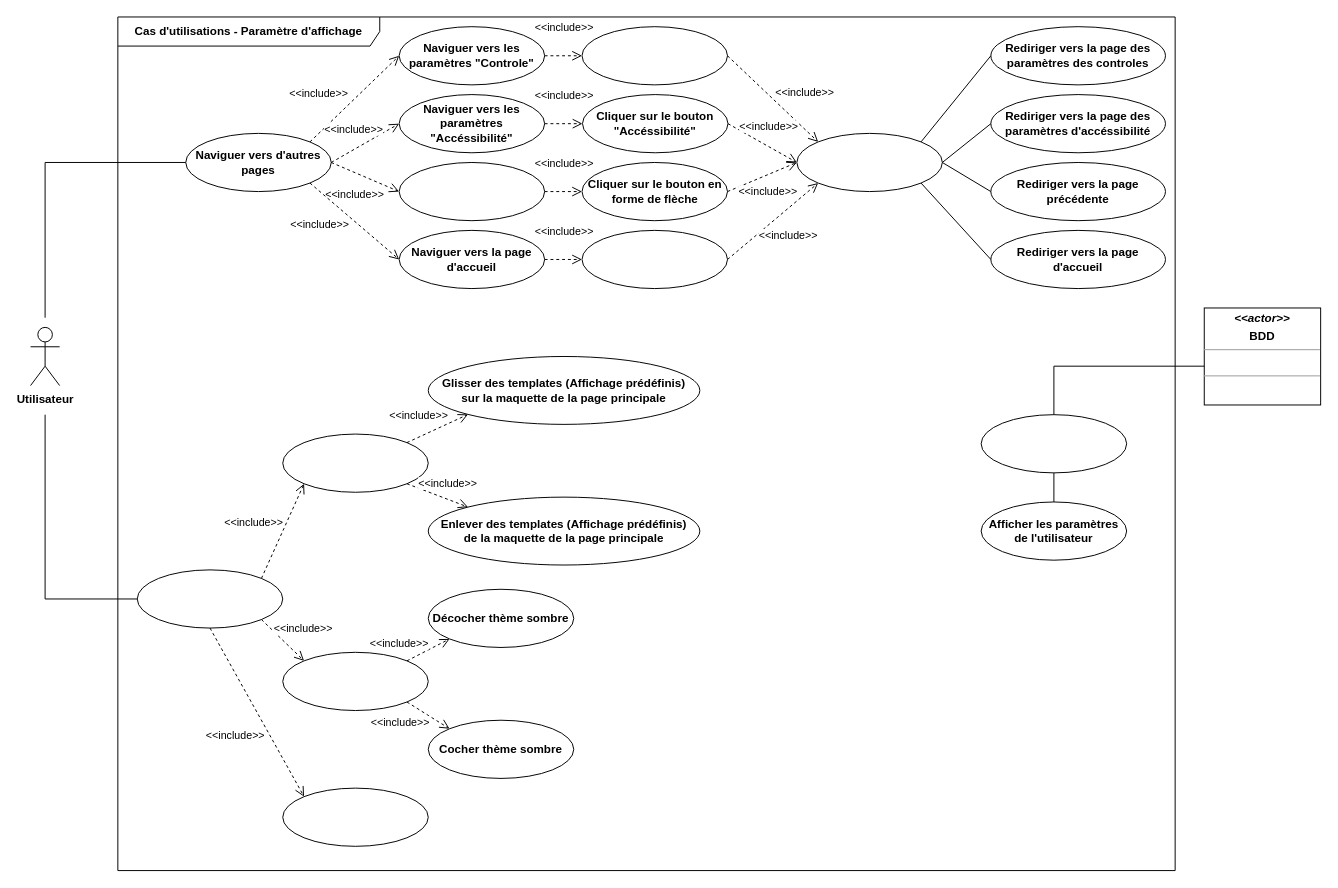
Image size: 1338x888. Some labels were removed from this diagram. Here are the shapes that lost their labels. From the top down, the centre of each, then its label:
[654,55]: Cliquer sur le bouton "Controle"
[869,162]: Enregistrer les paramètres de l'utilisateur
[471,191]: Naviguer vers la page précédente
[654,259]: Cliquer sur le bouton en forme de maison
[355,462]: Modifier l'apparence de la page principale
[1053,443]: Charger les paramètres de l'utilisateur
[209,598]: Modifier l'apparence du logiciel
[355,681]: Choisir un thème
[355,816]: Choisir la résolution avec une liste déroulante
